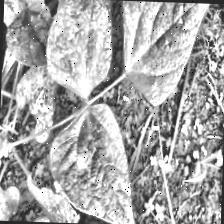Bean Rust: (117, 0, 224, 108), (47, 104, 143, 224), (41, 0, 111, 96), (2, 0, 53, 67)
